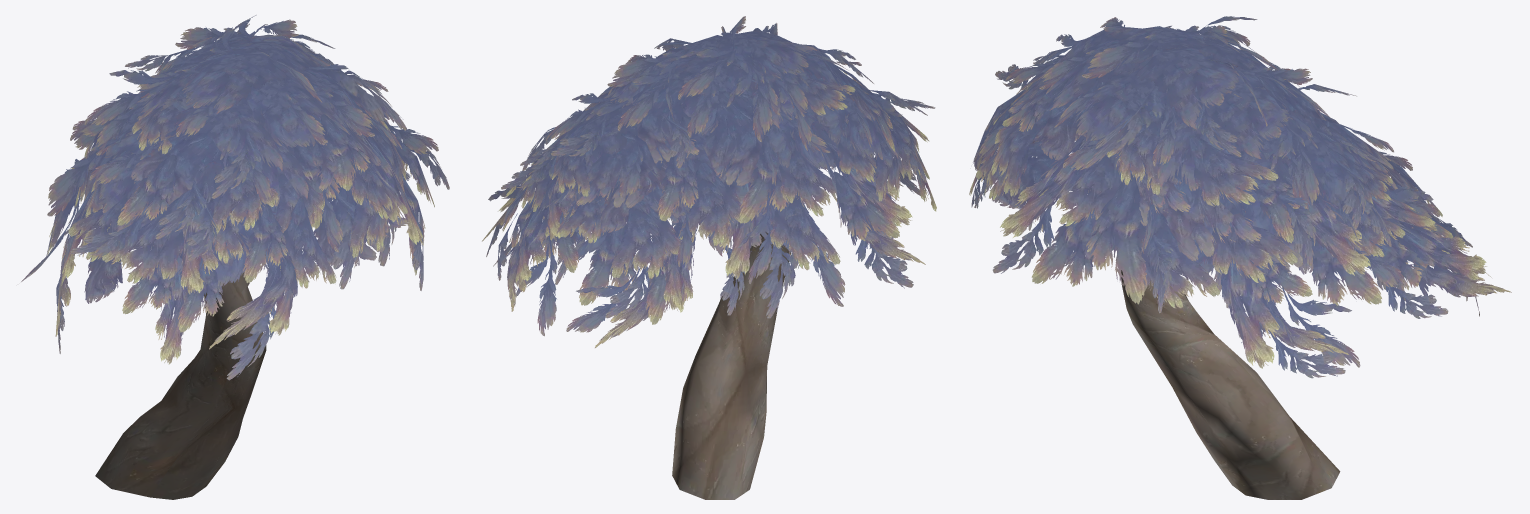
3 renders of one model, left to right at view 1: azimuth 30°, elevation 25°; view 2: azimuth 150°, elevation 25°; view 3: azimuth 270°, elevation 25°, orthographic. The views are drawn at different scales.
Bounding box in the file's own units: 29.89 × 30.49 × 32.29.
2 materials, 2 textured.
